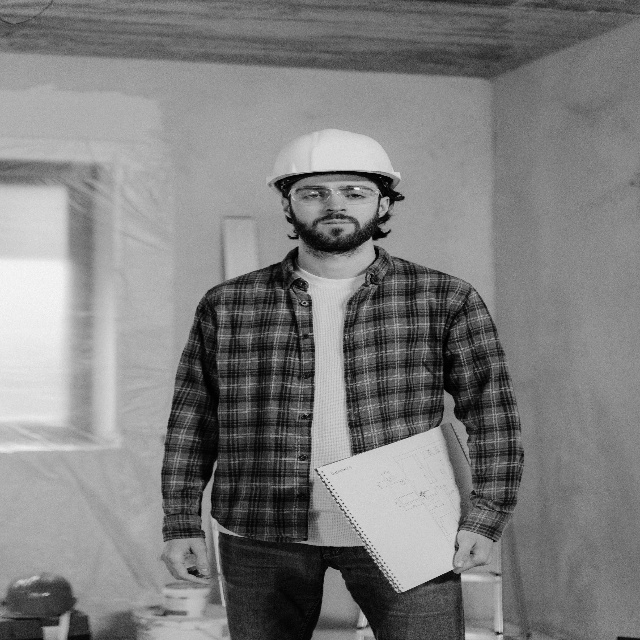Sin_guantes: (159, 539, 214, 584), (451, 531, 495, 573)
